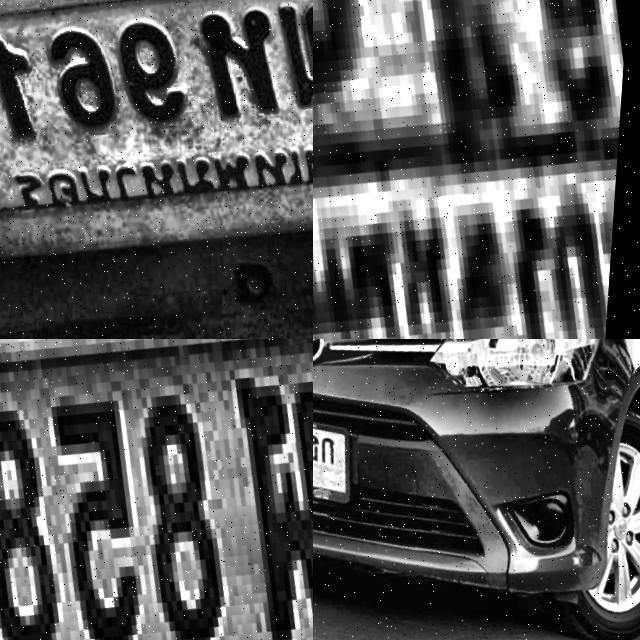license-plate: (313, 0, 640, 339), (0, 0, 313, 323), (0, 339, 313, 640), (313, 382, 368, 522)
